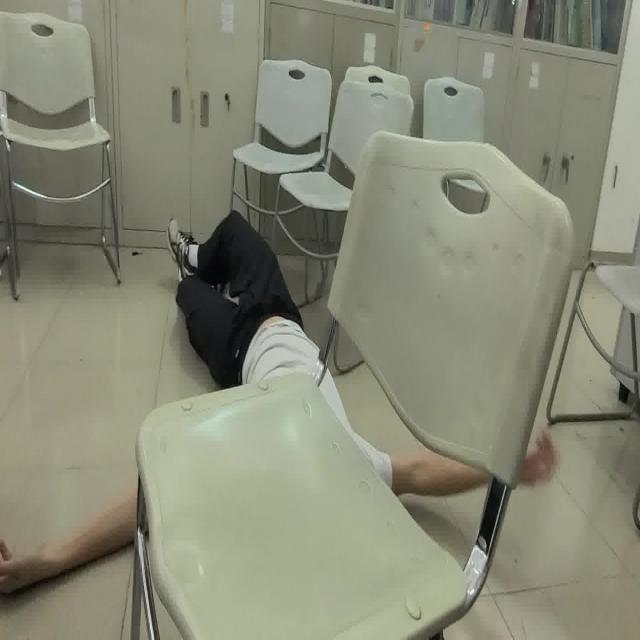fall: (0, 210, 528, 579)
